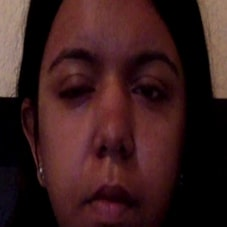drowsy: (45, 41, 181, 227)
